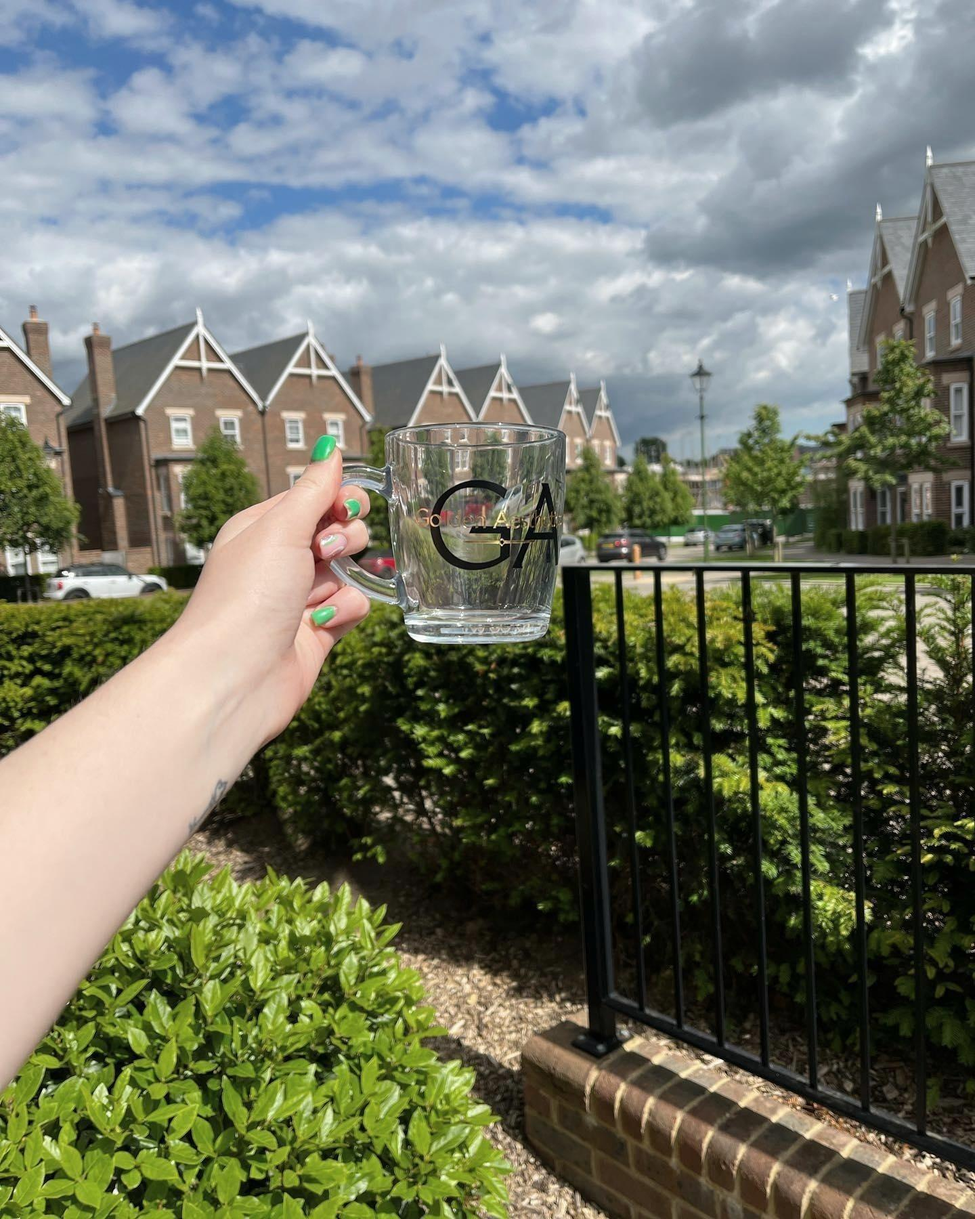glass-mug: (319, 410, 576, 654)
